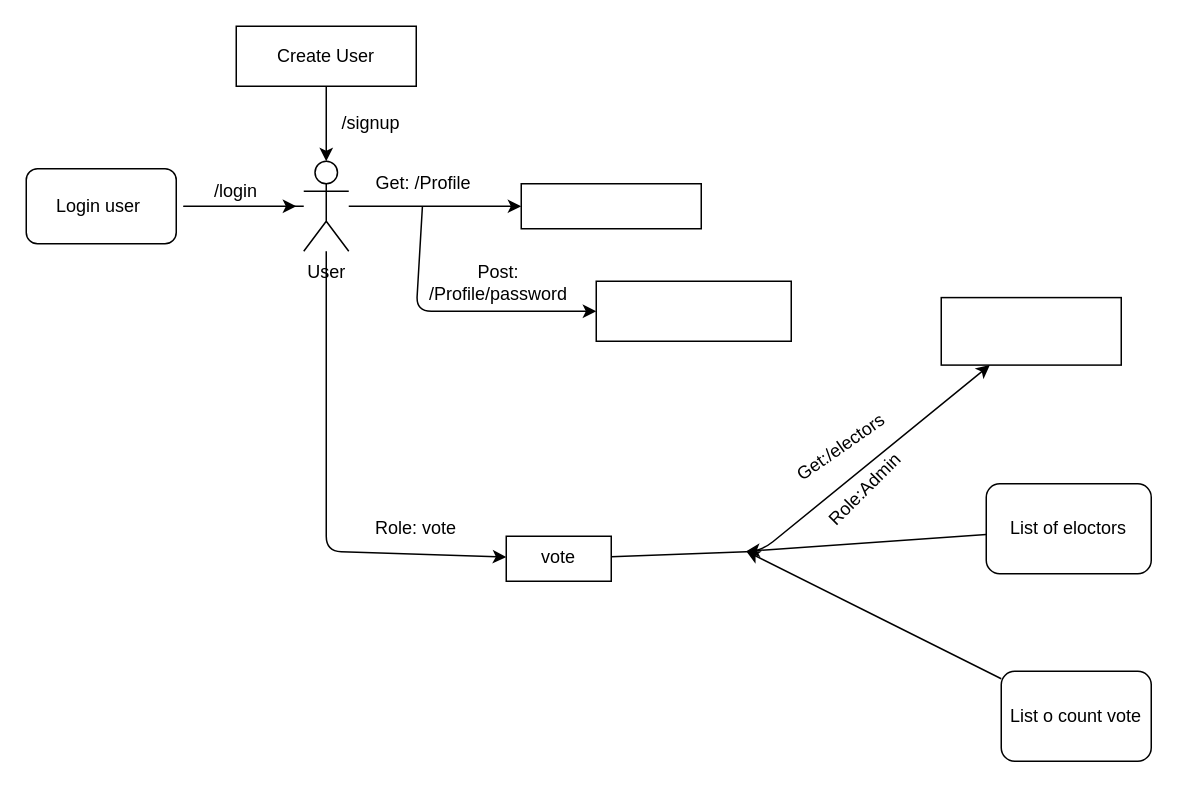
Some shapes in this 1178 by 788 pixel diagram are drawn without their labels. The shapes that lost their labels are listed below. From the top down, each one's box as (x1, y1, x2, y2) in pixels, then its label:
(520, 182, 701, 229): Access Profile
(595, 280, 791, 341): profile Password Change
(940, 296, 1121, 365): list of elector
